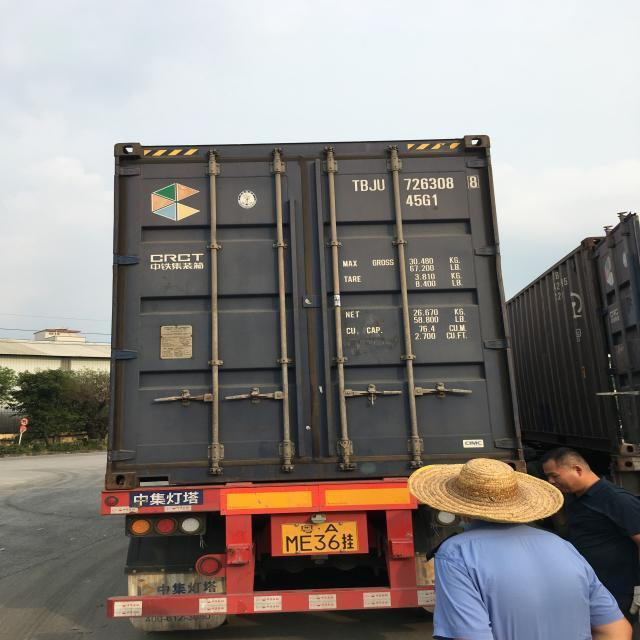ISO: (403, 192, 442, 210)
container_number: (350, 174, 482, 191)
